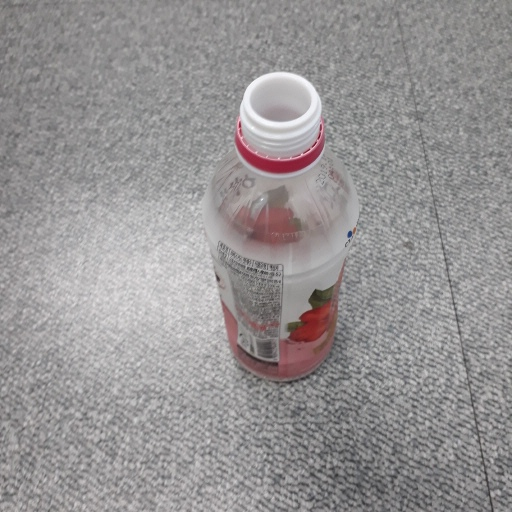Plastic_0: (203, 73, 361, 381)
